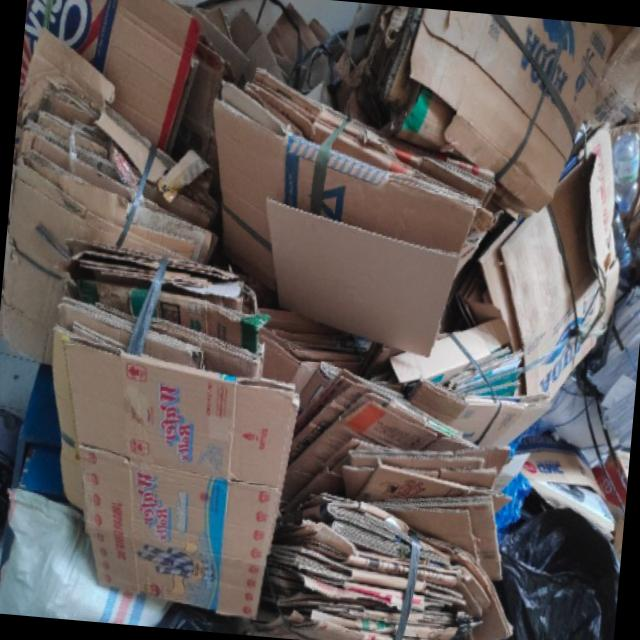Kardus: (0, 0, 640, 640), (27, 249, 310, 625), (192, 67, 503, 363)
